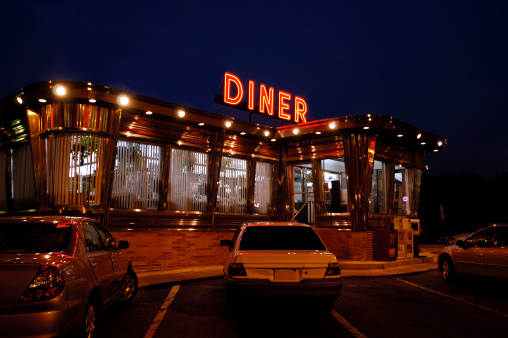car: (212, 218, 347, 321)
